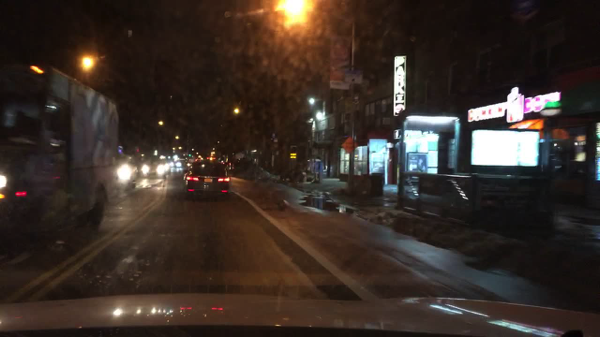car: (183, 159, 231, 201), (116, 152, 139, 188), (137, 154, 167, 179), (171, 157, 184, 169)
traffic light: (288, 145, 297, 160)
traffic sign: (341, 137, 357, 154), (344, 70, 363, 82)
truck: (0, 61, 123, 253)
